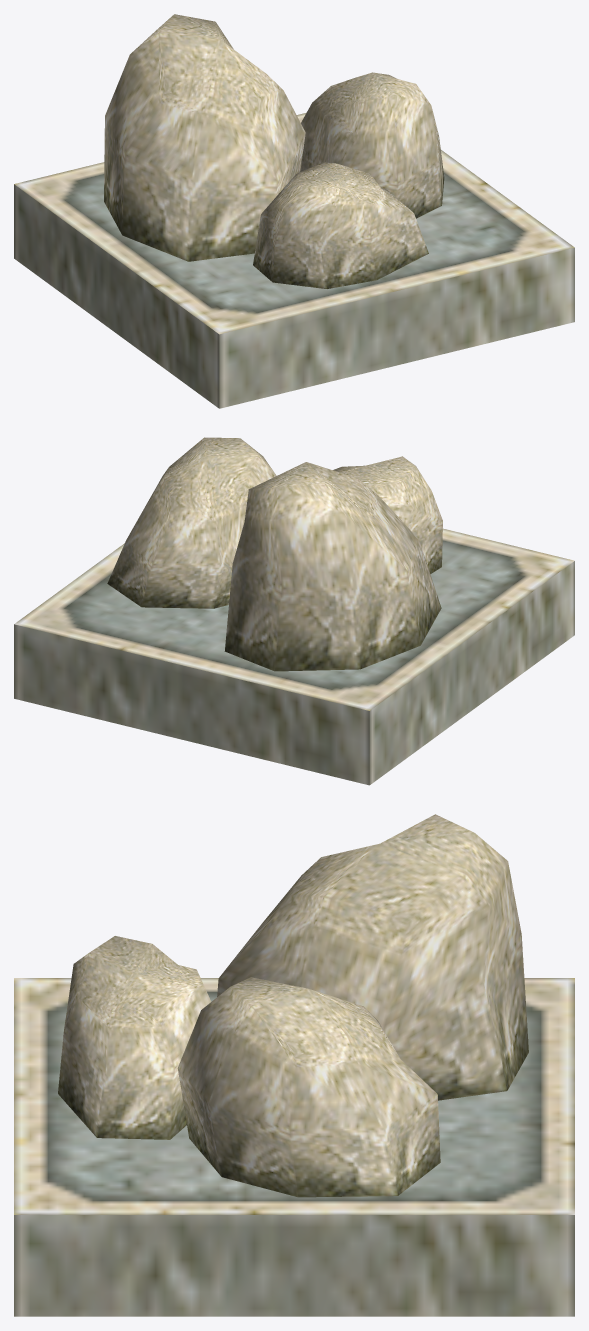
File: stones2.glb
The picture shows the model from 3 angles, top to bottom: view 1: azimuth 30°, elevation 25°; view 2: azimuth 150°, elevation 25°; view 3: azimuth 270°, elevation 25°; orthographic projection. The views are drawn at different scales.
Visible parts, largest first — view 1: stones2; view 2: stones2; view 3: stones2.
Part boxes in pixels (<box>): stones2: <box>14,14,574,408</box>; stones2: <box>14,437,574,785</box>; stones2: <box>14,814,574,1316</box>.
Bounding box in the file's own units: 5 × 3.24 × 5.
Materials: 1 (1 with a texture image).
